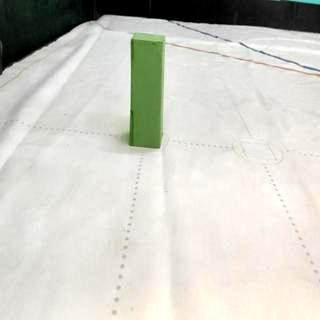greenbox: (130, 32, 166, 150)
